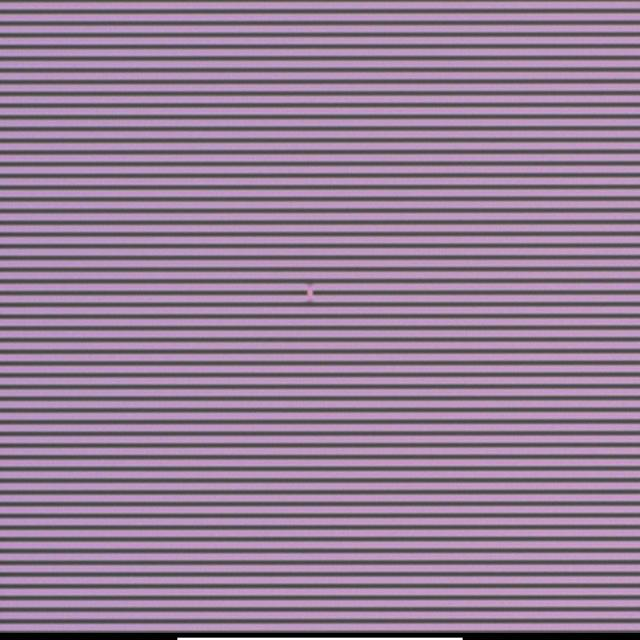03_intrusion: (303, 281, 318, 305)
